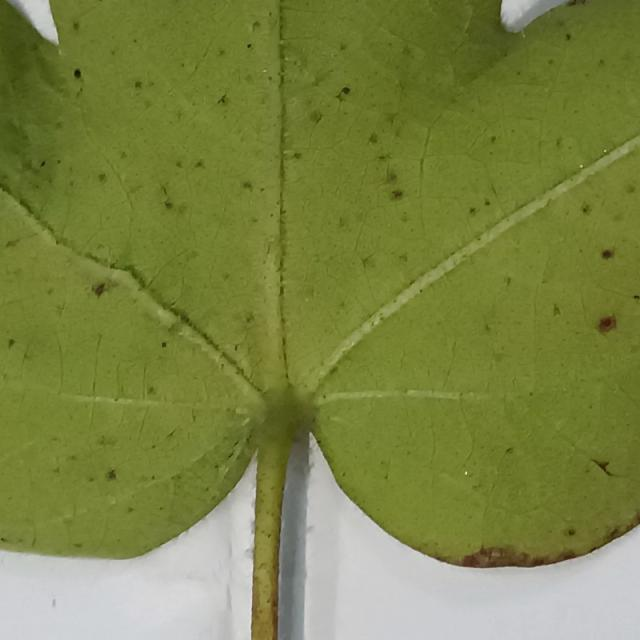Bacterial_Blight: (296, 73, 361, 166), (320, 245, 376, 297), (118, 259, 174, 308), (539, 246, 571, 291), (591, 303, 622, 345), (158, 185, 181, 215), (385, 185, 410, 205), (590, 458, 613, 476), (360, 253, 376, 270), (385, 168, 398, 186), (336, 88, 350, 102), (309, 110, 323, 124), (92, 282, 106, 296), (327, 364, 339, 378), (165, 427, 177, 441), (5, 238, 21, 248), (170, 472, 182, 484), (217, 93, 227, 105), (601, 249, 613, 259), (552, 304, 561, 317), (625, 184, 636, 194), (398, 252, 408, 263), (252, 20, 261, 32), (194, 159, 204, 169), (242, 181, 252, 191), (107, 469, 116, 480), (582, 204, 591, 214), (97, 173, 106, 183), (504, 446, 514, 455), (73, 69, 82, 79), (8, 338, 16, 349), (119, 150, 128, 159), (566, 528, 576, 536), (293, 152, 302, 160), (134, 81, 143, 89), (147, 386, 155, 395), (342, 87, 350, 95), (339, 43, 347, 51), (490, 135, 497, 144), (469, 207, 476, 215), (484, 199, 491, 207), (127, 506, 135, 513), (73, 22, 79, 31), (565, 33, 571, 41), (161, 341, 167, 348), (40, 160, 46, 167), (247, 43, 252, 49), (636, 294, 640, 300)
Cotton: (0, 0, 639, 564)
